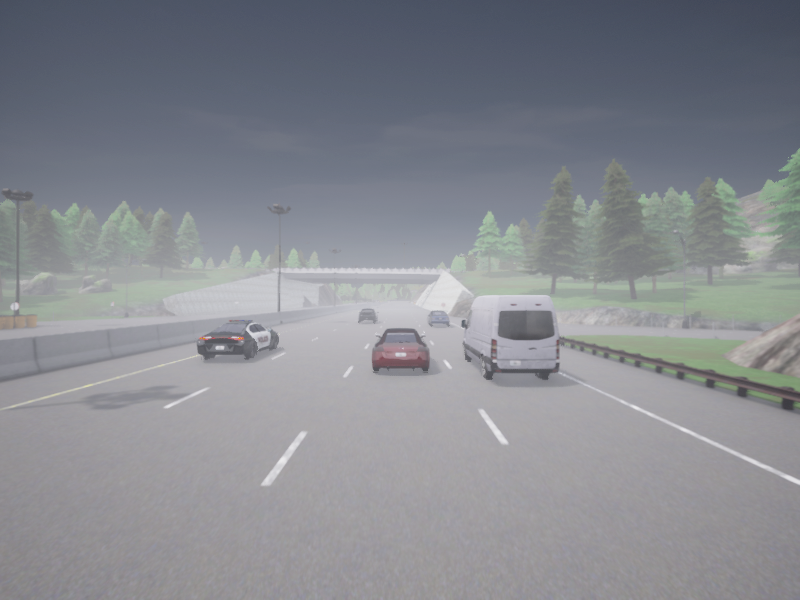vehicle: (461, 295, 559, 378), (196, 320, 277, 358), (372, 328, 429, 371), (426, 311, 449, 325), (358, 308, 378, 322)
